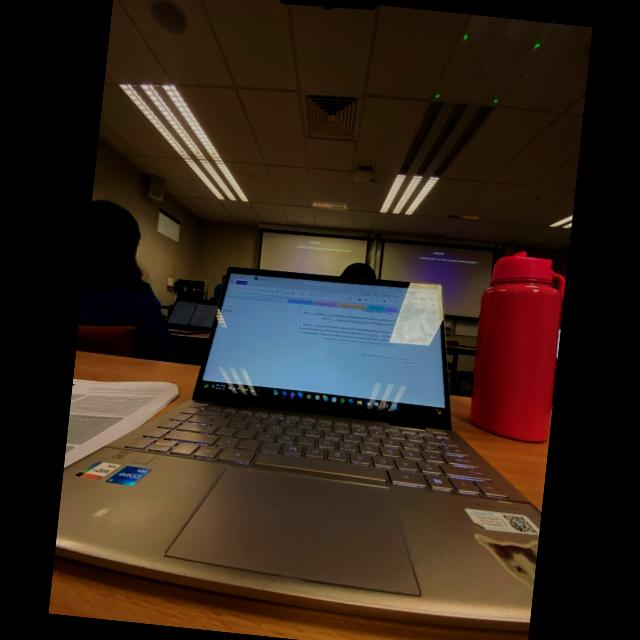laptop: (56, 266, 540, 628)
